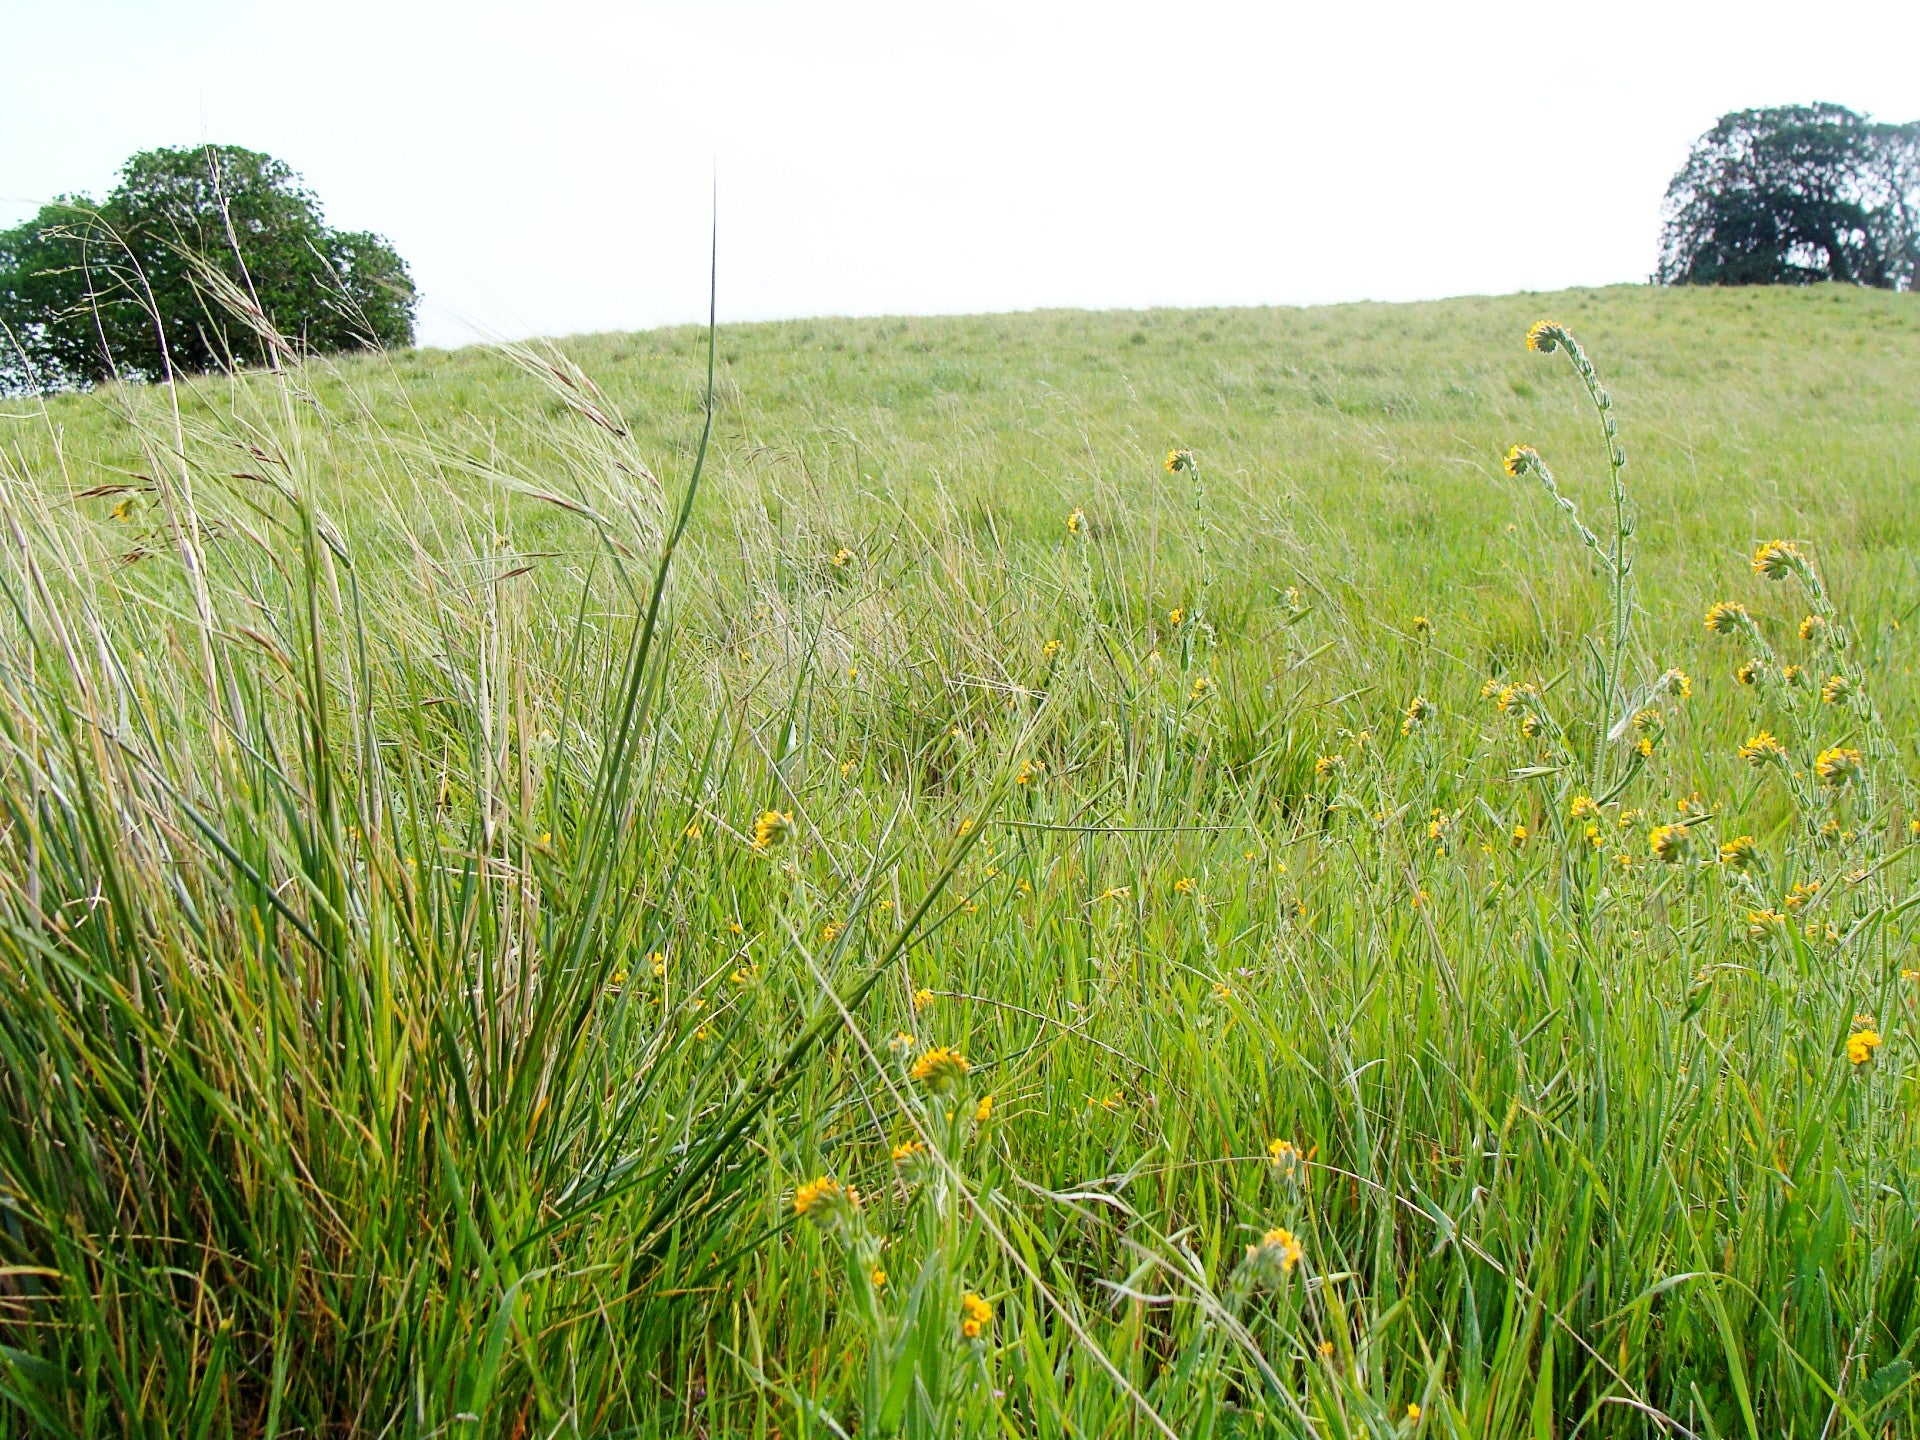grass: (20, 396, 1920, 1440)
